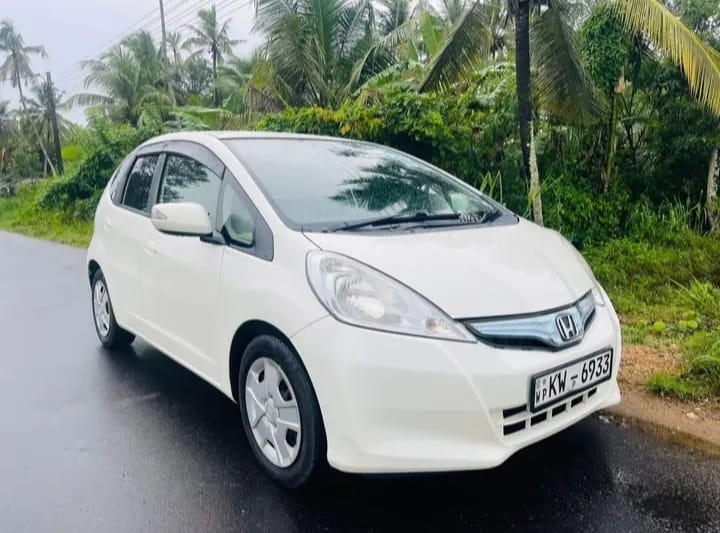number_plate: (523, 347, 614, 409)
